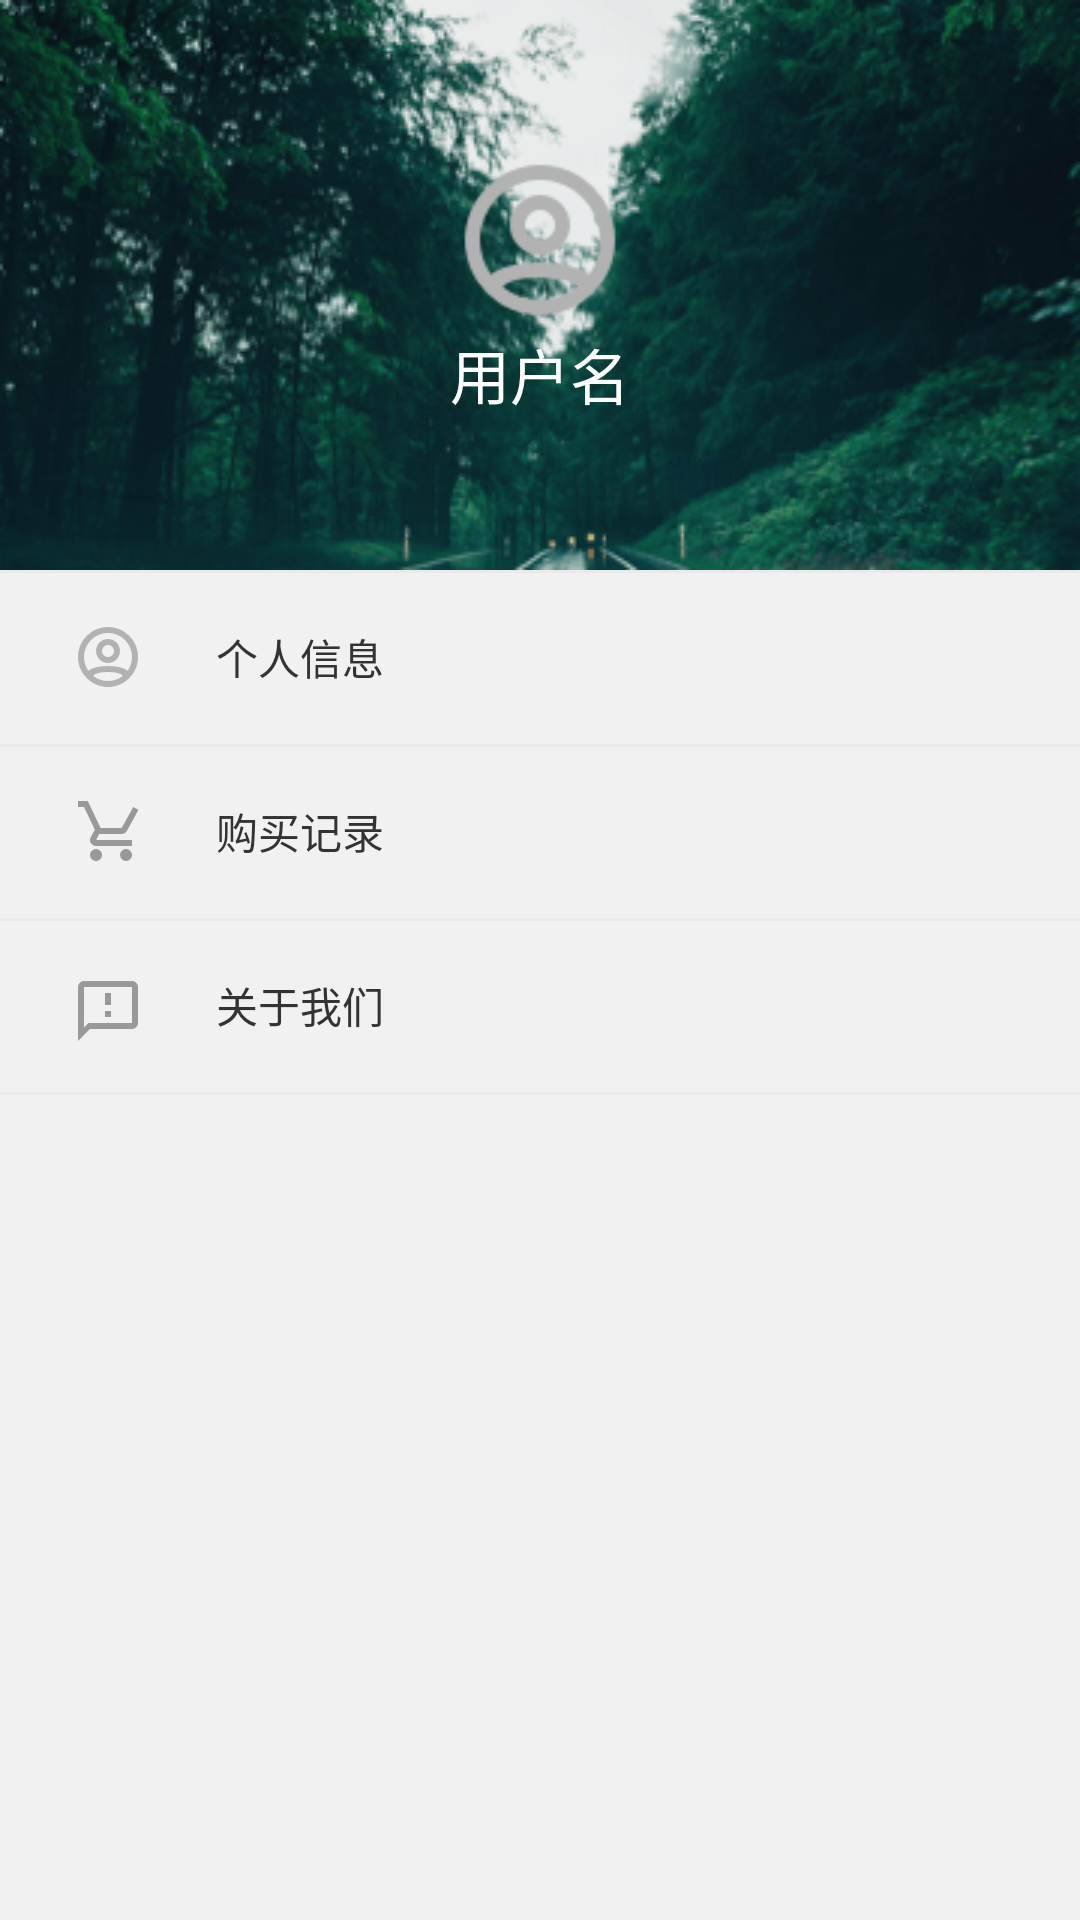

Point at icon controls on the screen. Image size 1080 × 1920, points as [x,y].
account buy: [108,831]
